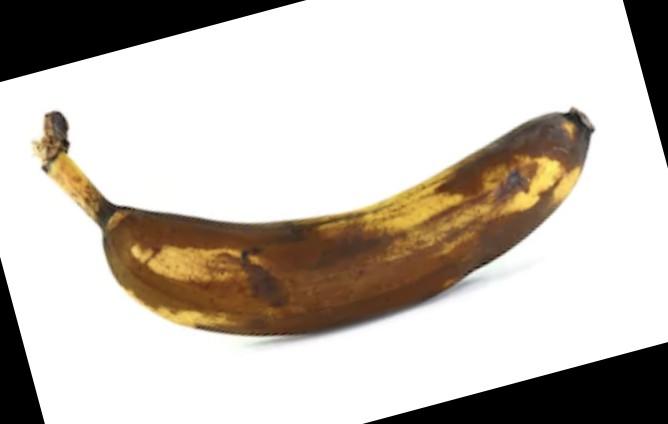rotten_banana: (33, 107, 597, 335)
